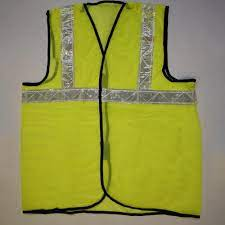jacket: (7, 1, 218, 225)
